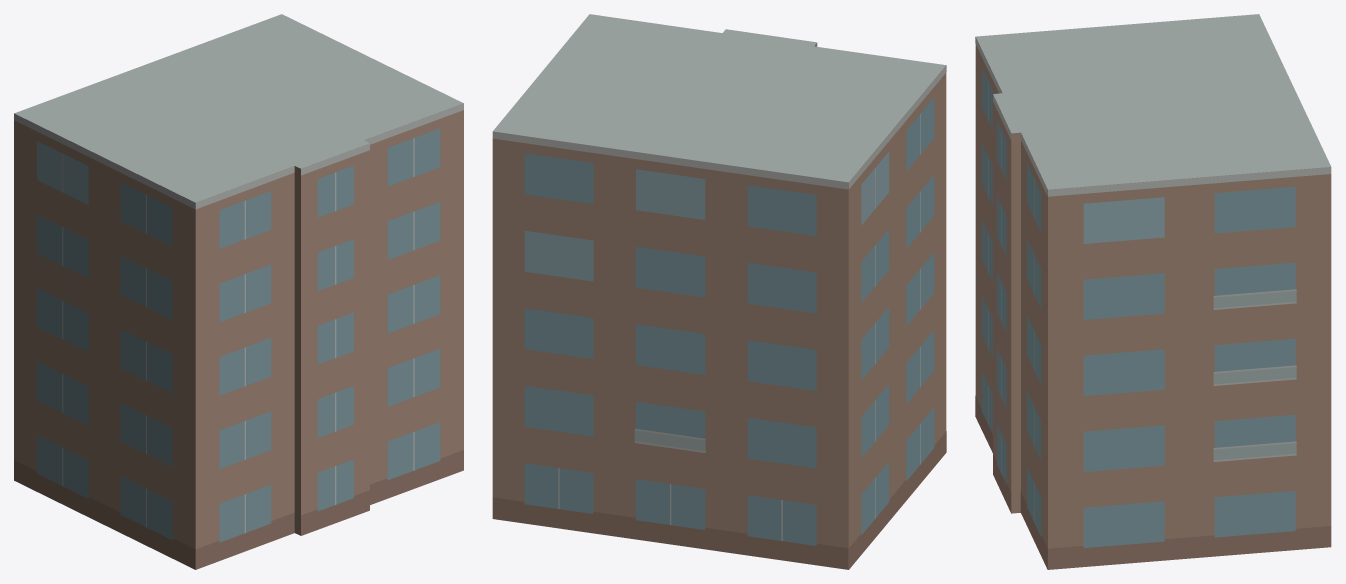
The model's file is survey-upis-32947971.glb.
3 renders of one model, left to right at view 1: azimuth 30°, elevation 25°; view 2: azimuth 150°, elevation 25°; view 3: azimuth 270°, elevation 25°, orthographic. The views are drawn at different scales.
Visible parts, largest first — view 1: survey-upis-32947971.tmp; view 2: survey-upis-32947971.tmp; view 3: survey-upis-32947971.tmp.
Part boxes in pixels (<box>): survey-upis-32947971.tmp: <box>14,14,463,569</box>; survey-upis-32947971.tmp: <box>492,14,946,569</box>; survey-upis-32947971.tmp: <box>975,14,1331,569</box>.
Size of the model in its own units: 13.09 by 13.2 by 11.21.
